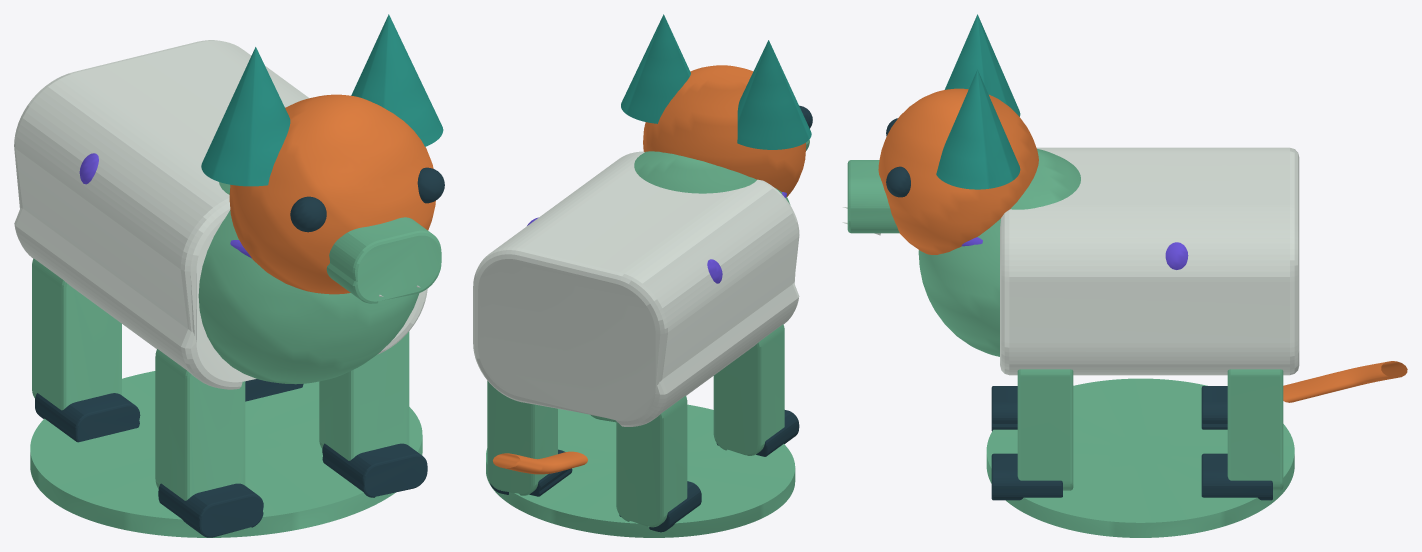
Rendered from 0144_恐龙图鉴_小盗龙.glb.
3 renders of one model, left to right at view 1: azimuth 30°, elevation 25°; view 2: azimuth 150°, elevation 25°; view 3: azimuth 270°, elevation 25°, orthographic. The views are drawn at different scales.
Visible parts, largest first — view 1: card_0144; view 2: card_0144; view 3: card_0144.
Boxes of the visible parts, left/top/right/bottom form: card_0144: left=14, top=14, right=444, bottom=537; card_0144: left=473, top=14, right=812, bottom=537; card_0144: left=842, top=14, right=1407, bottom=537.
Size of the model in its own units: 0.7292 by 1 by 1.21.
